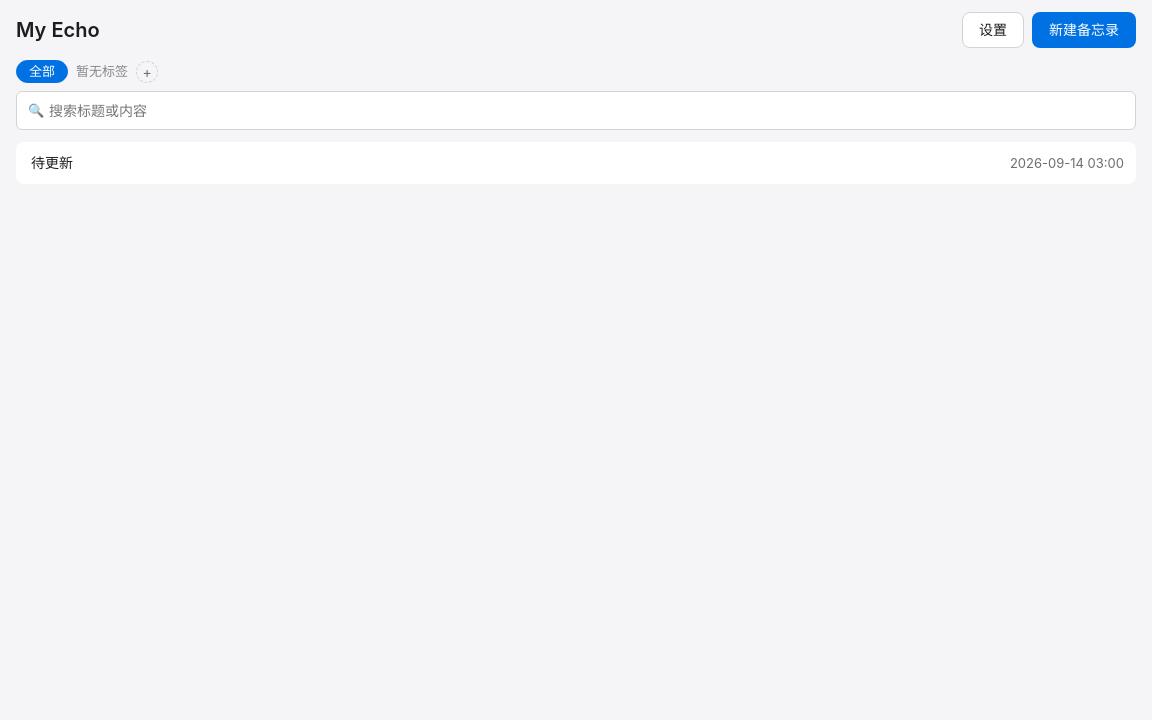
App 关键流程 › 编辑保存时 E_NOT_FOUND 先展示提示再回列表
Click the button "待更新 2026-09-14 03:00" at (52, 163), box x1=16 y1=142 x2=1136 y2=184
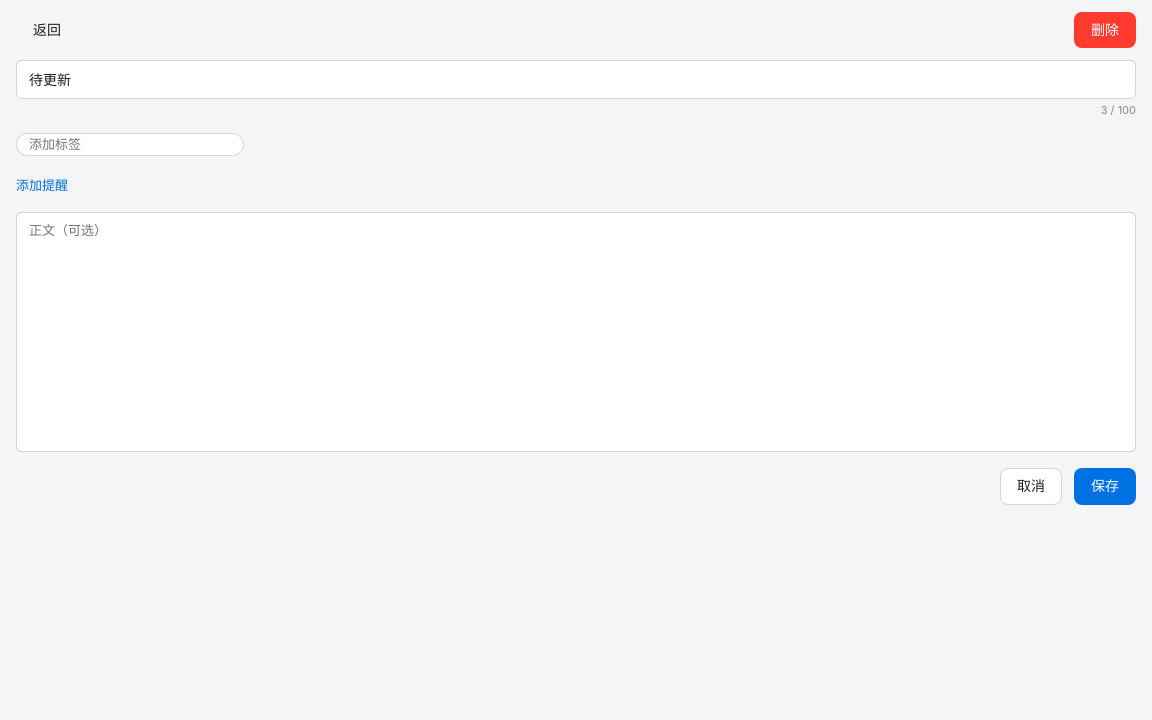
Replace the text in the 1st field with "改后的标题" at (576, 80), box x1=16 y1=60 x2=1136 y2=99
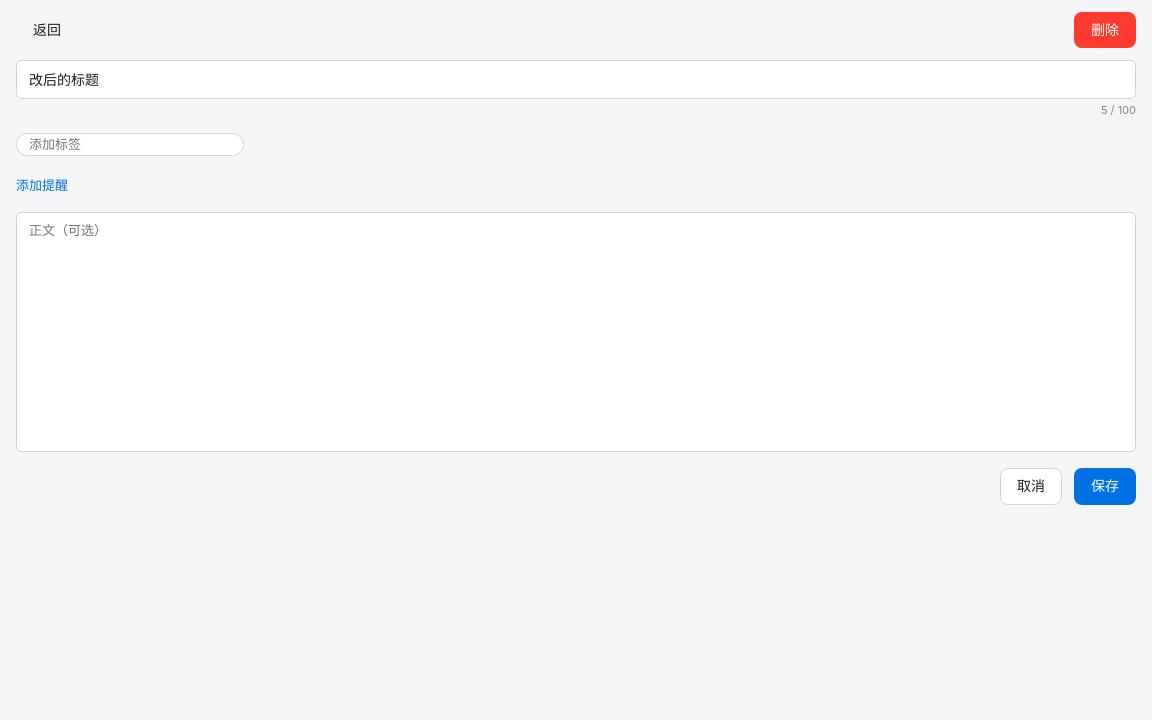
Submit the form
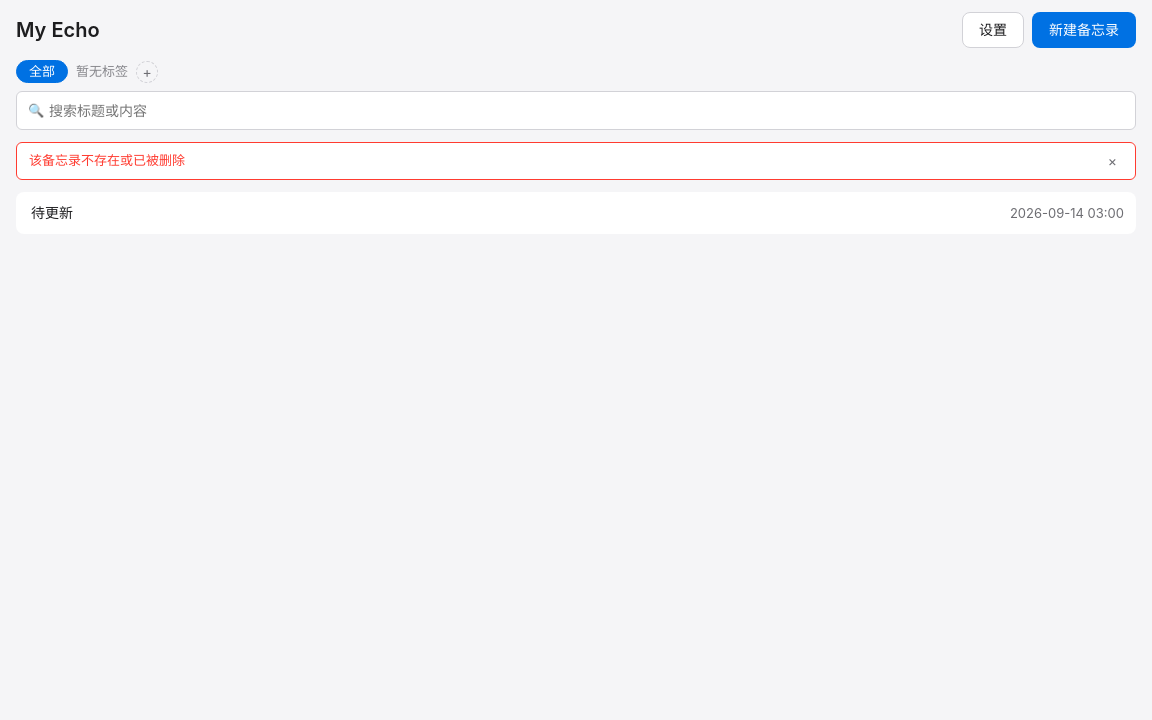
Check: the text "该备忘录不存在或已被删除" is shown, box x1=29 y1=151 x2=185 y2=171
Check: the list with class "memo-list" is shown, box x1=16 y1=192 x2=1136 y2=234
